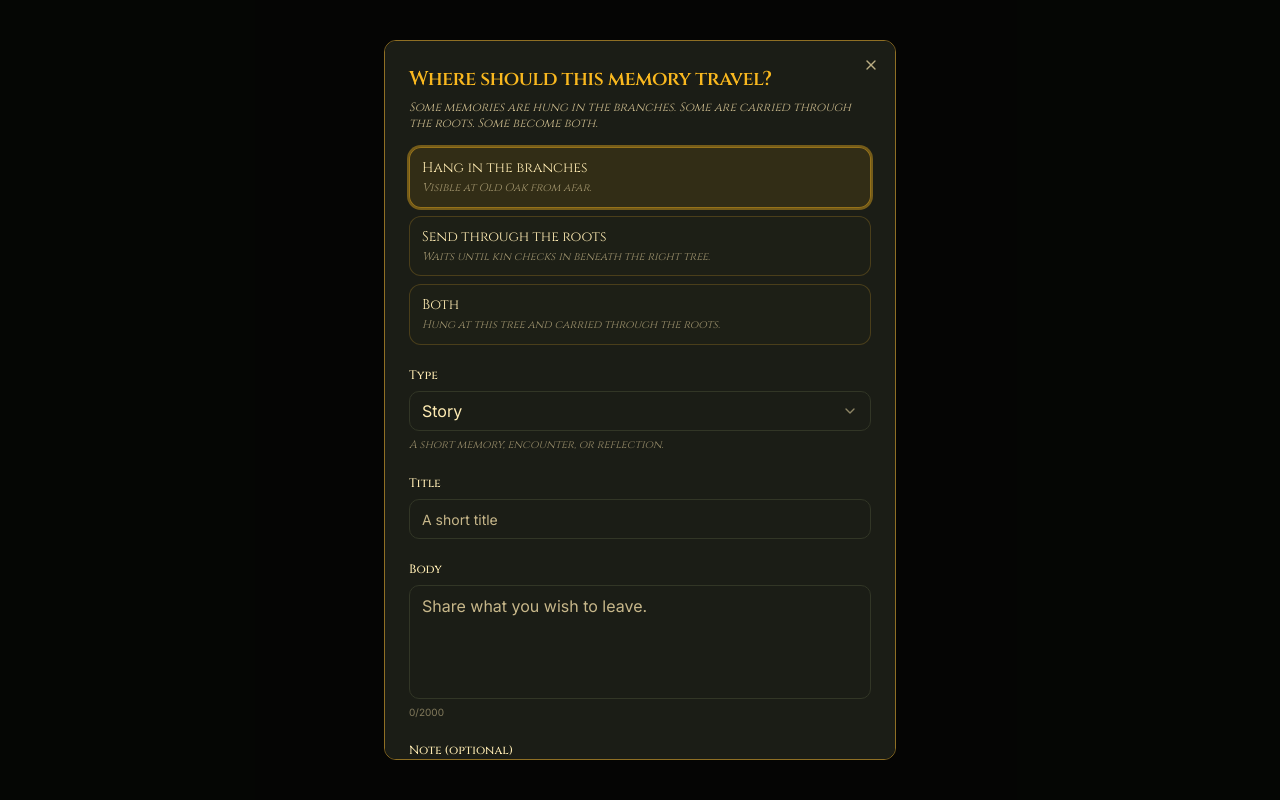
Test: MemorySeedComposer submit flow › 1. offering only — inserts once, fires offering-created, no whisper-sent, shows confirmation
Type "Hello" into the field labelled "Title".
click(640, 519); type("Hello")  # box [409, 499, 871, 539]
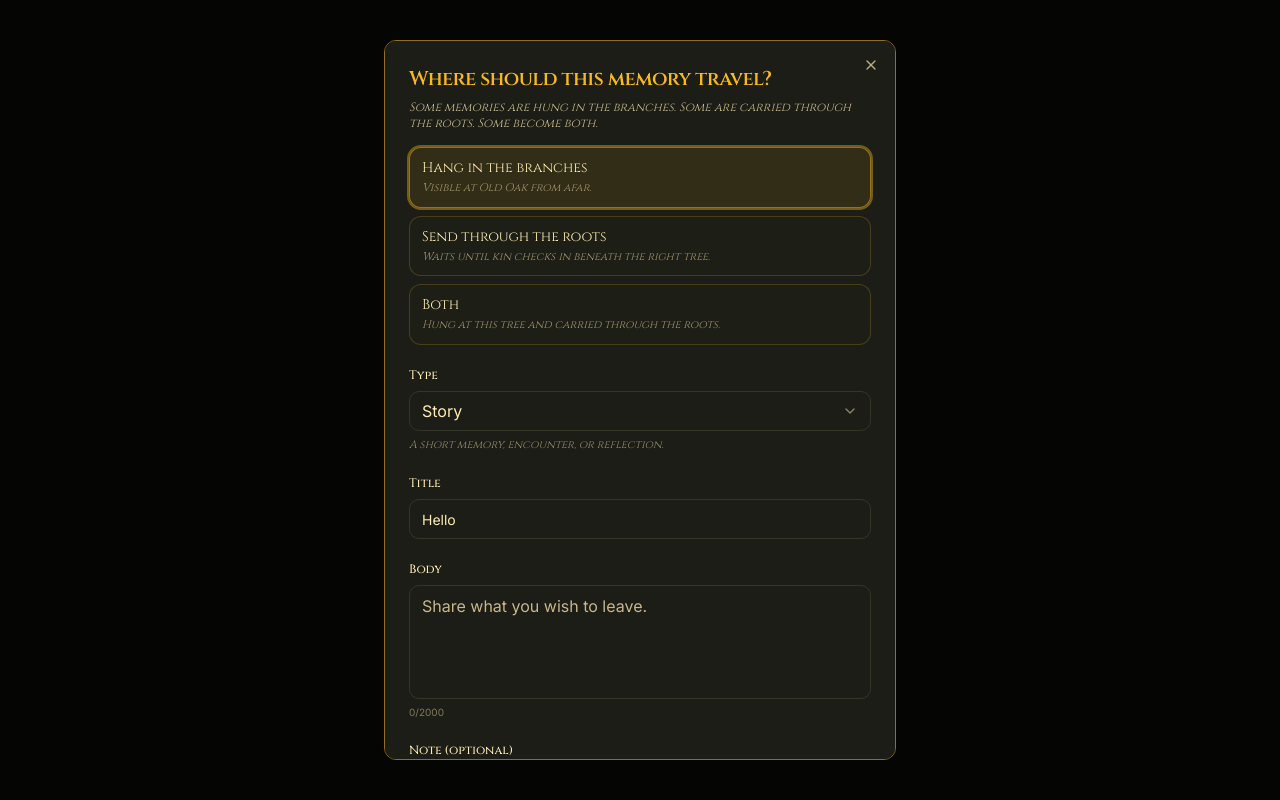
Type "Body text" into the text box labelled "Body".
click(640, 642); type("Body text")  # box [409, 585, 871, 699]
(page scrolled)
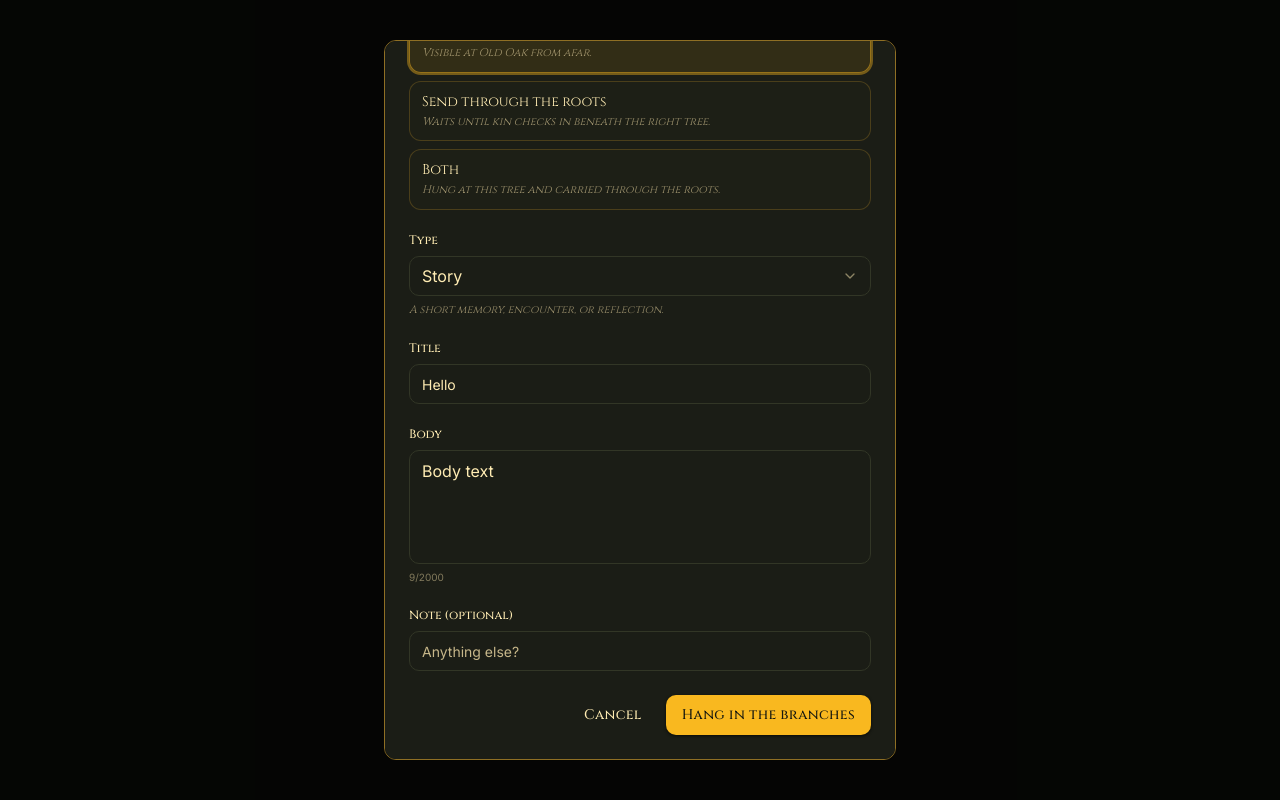
Click the button "Hang in the branches".
click(768, 715)  # box [666, 695, 871, 735]
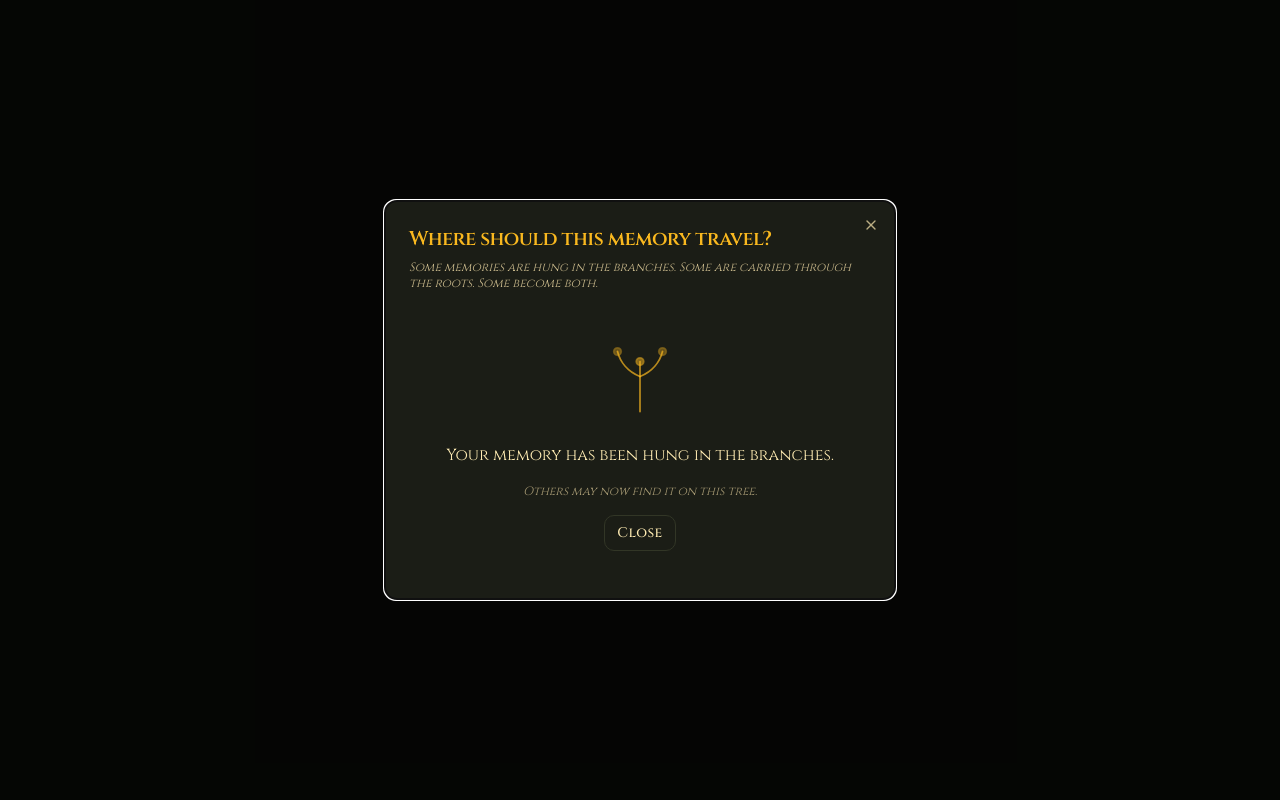
Check: the text "Your memory has been hung in the branches." is shown, box [446, 444, 834, 466]
